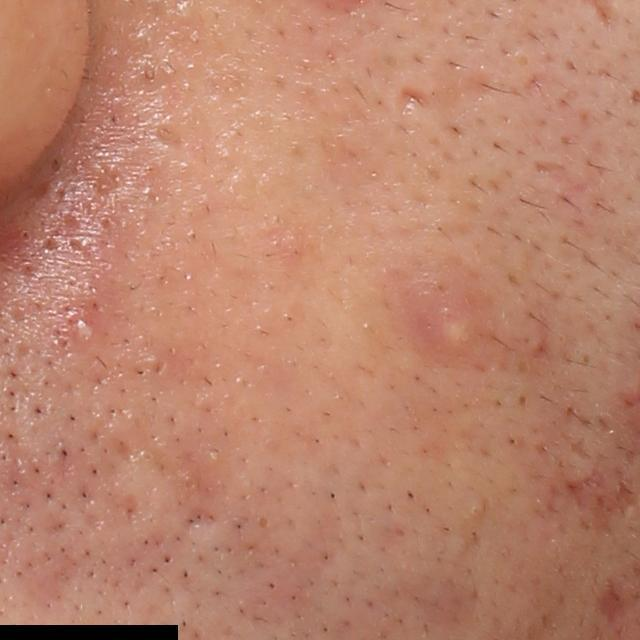atrophic_scar: (148, 443, 235, 508), (593, 570, 625, 626), (182, 502, 222, 537), (393, 88, 432, 119), (567, 435, 592, 461)
comedo: (461, 497, 489, 522)
pustule: (417, 294, 482, 365), (62, 311, 102, 348)
